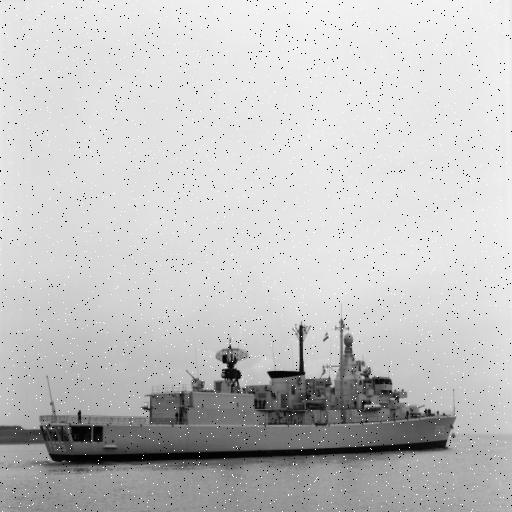Fragata: (40, 298, 461, 463)
